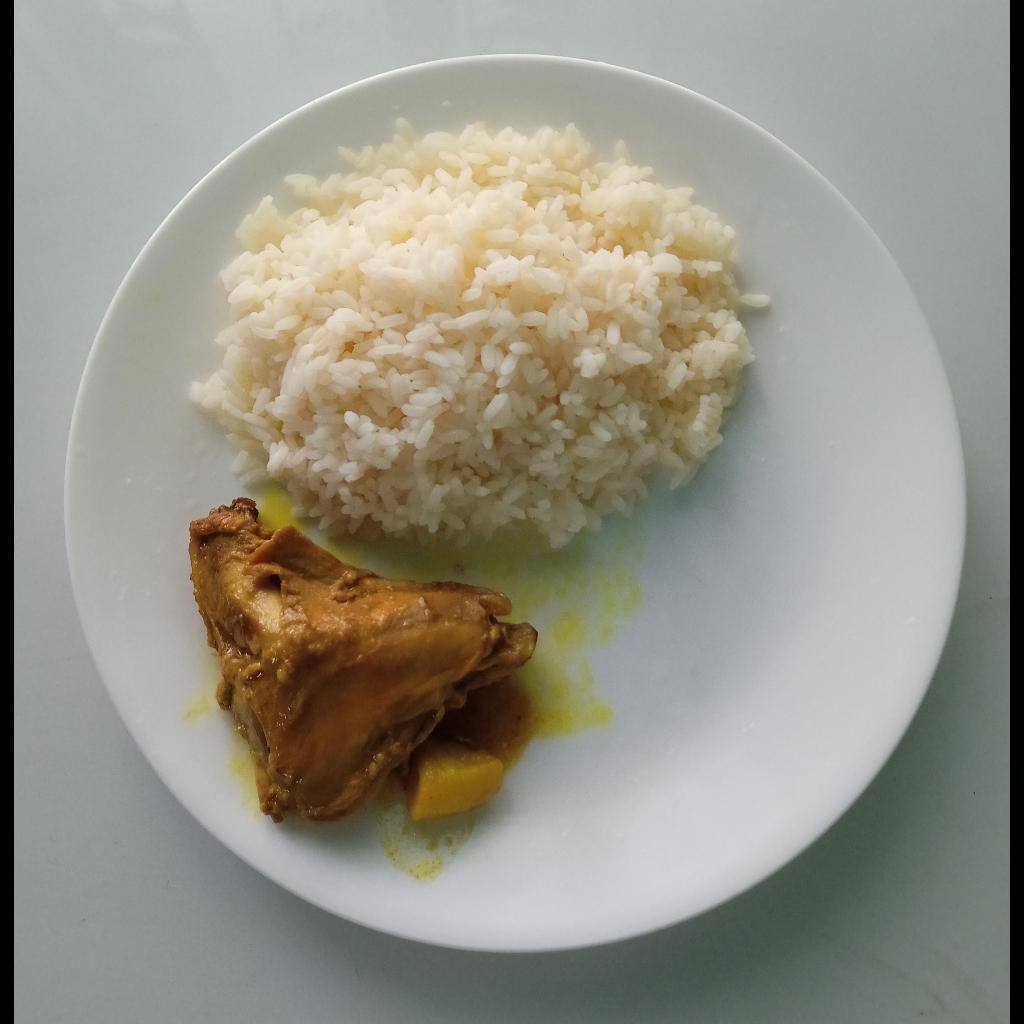chicken: (189, 496, 542, 824)
potato: (403, 742, 503, 820)
rice: (189, 119, 754, 558)
